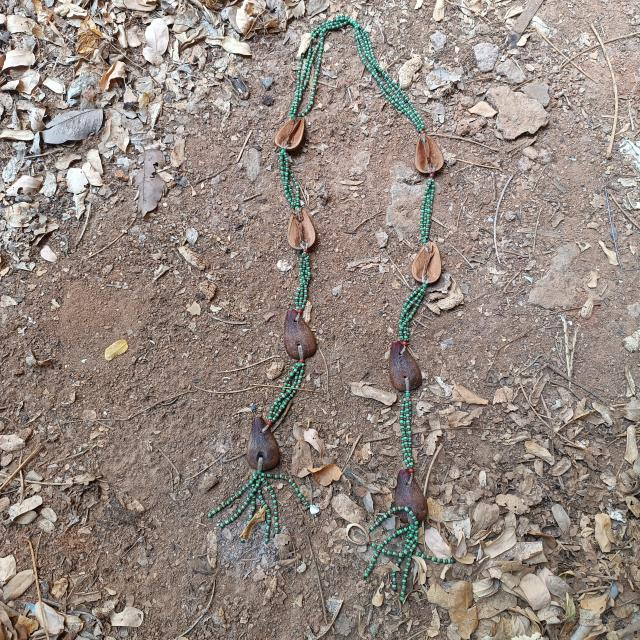facedown: (279, 300, 320, 366), (245, 411, 282, 479), (394, 465, 430, 533), (386, 336, 425, 396)
faceup: (408, 126, 450, 180), (411, 234, 447, 292), (286, 205, 321, 257), (272, 112, 310, 154)
